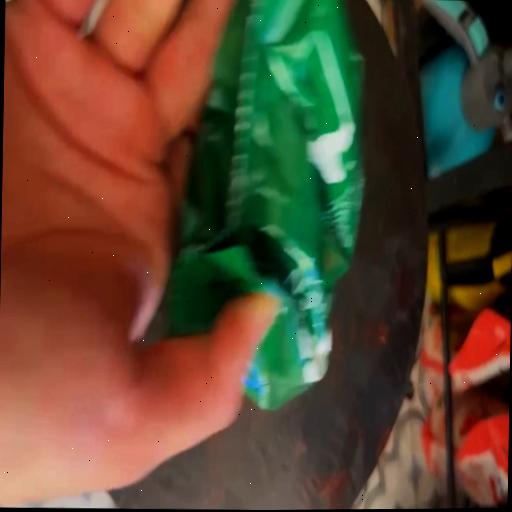cafe_xay: (166, 0, 364, 409)
